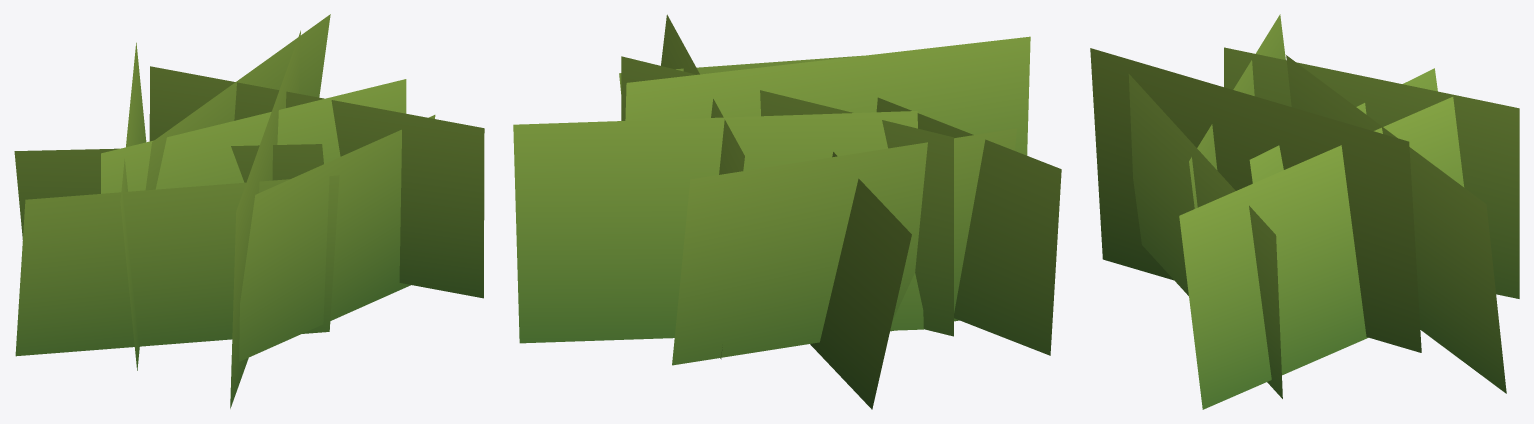
File: grass_a.glb
The picture shows the model from 3 angles, left to right: view 1: azimuth 30°, elevation 25°; view 2: azimuth 150°, elevation 25°; view 3: azimuth 270°, elevation 25°; orthographic projection. The views are drawn at different scales.
Parts seen in each view (by area): view 1: GrassBundle_01; view 2: GrassBundle_01; view 3: GrassBundle_01.
Part boxes in pixels (left/top/right/bottom): GrassBundle_01: left=14, top=14, right=484, bottom=408; GrassBundle_01: left=513, top=14, right=1061, bottom=409; GrassBundle_01: left=1090, top=14, right=1519, bottom=409.
Size of the model in its own units: 1.38 by 0.6975 by 1.17.
